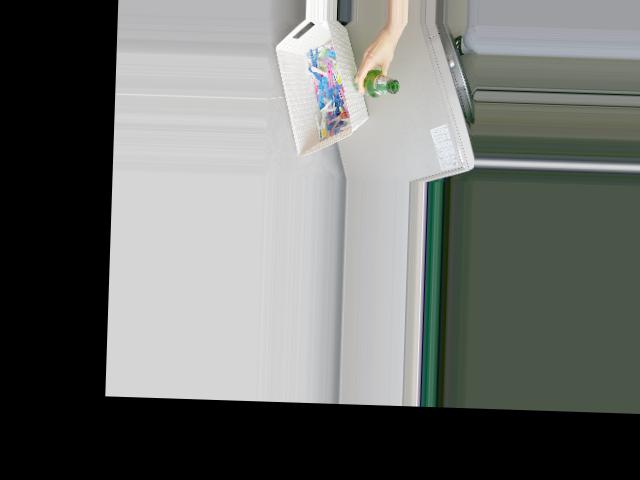beer: (353, 68, 400, 98)
